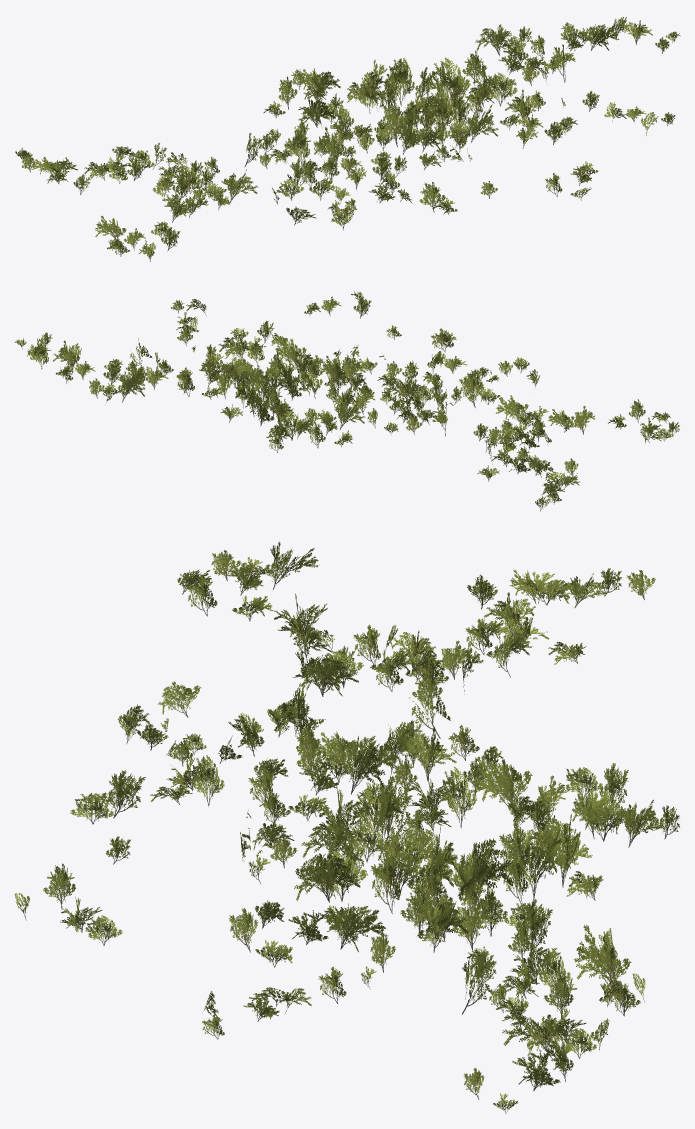
The model's file is MLRT_Tree_Far_Group_03.fbx.
3 views of the same model, one above another, from view 1: azimuth 30°, elevation 25°; view 2: azimuth 150°, elevation 25°; view 3: azimuth 270°, elevation 25° (orthographic). The views are drawn at different scales.
Parts seen in each view (by area): view 1: MLRT_Tree_Far_Group_03_LOD0; view 2: MLRT_Tree_Far_Group_03_LOD0; view 3: MLRT_Tree_Far_Group_03_LOD0.
Boxes of the visible parts, x1=… form: MLRT_Tree_Far_Group_03_LOD0: x1=15, y1=17, x2=680, y2=261; MLRT_Tree_Far_Group_03_LOD0: x1=14, y1=291, x2=679, y2=511; MLRT_Tree_Far_Group_03_LOD0: x1=14, y1=541, x2=679, y2=1113.
Size of what is drawn, in the model's own units: 156 by 12.26 by 79.85.
